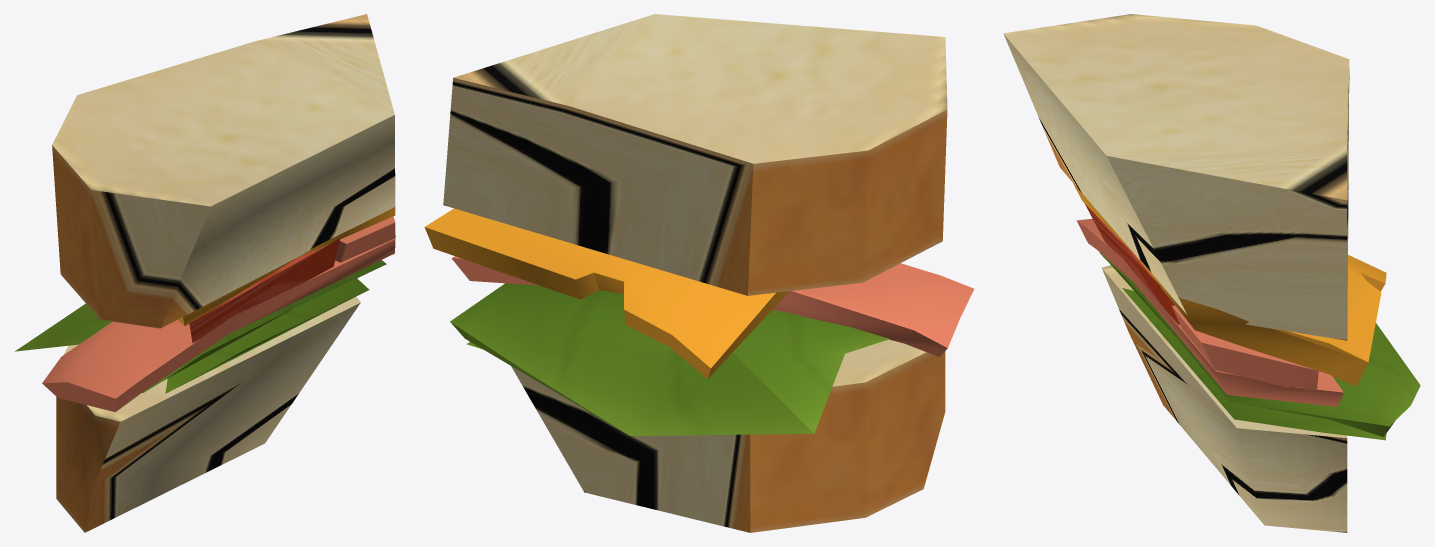
The model's file is Sandwich_3.fbx.
3 views of the same model, side by side, from view 1: azimuth 30°, elevation 25°; view 2: azimuth 150°, elevation 25°; view 3: azimuth 270°, elevation 25° (orthographic). The views are drawn at different scales.
Parts seen in each view (by area): view 1: sandwich_Part_3; view 2: sandwich_Part_3; view 3: sandwich_Part_3.
Boxes of the visible parts, left/top/right/bottom form: sandwich_Part_3: left=15, top=14, right=395, bottom=532; sandwich_Part_3: left=424, top=14, right=973, bottom=532; sandwich_Part_3: left=1003, top=14, right=1420, bottom=532.
Size of the model in its own units: 0.0617 by 0.0519 by 0.0491.
